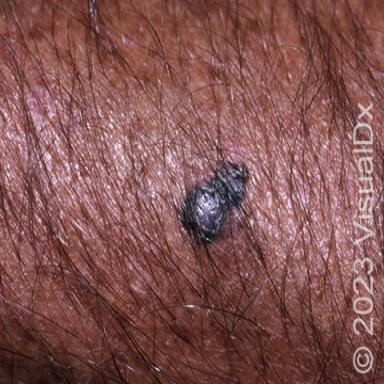Melanoma: (180, 160, 248, 244)
